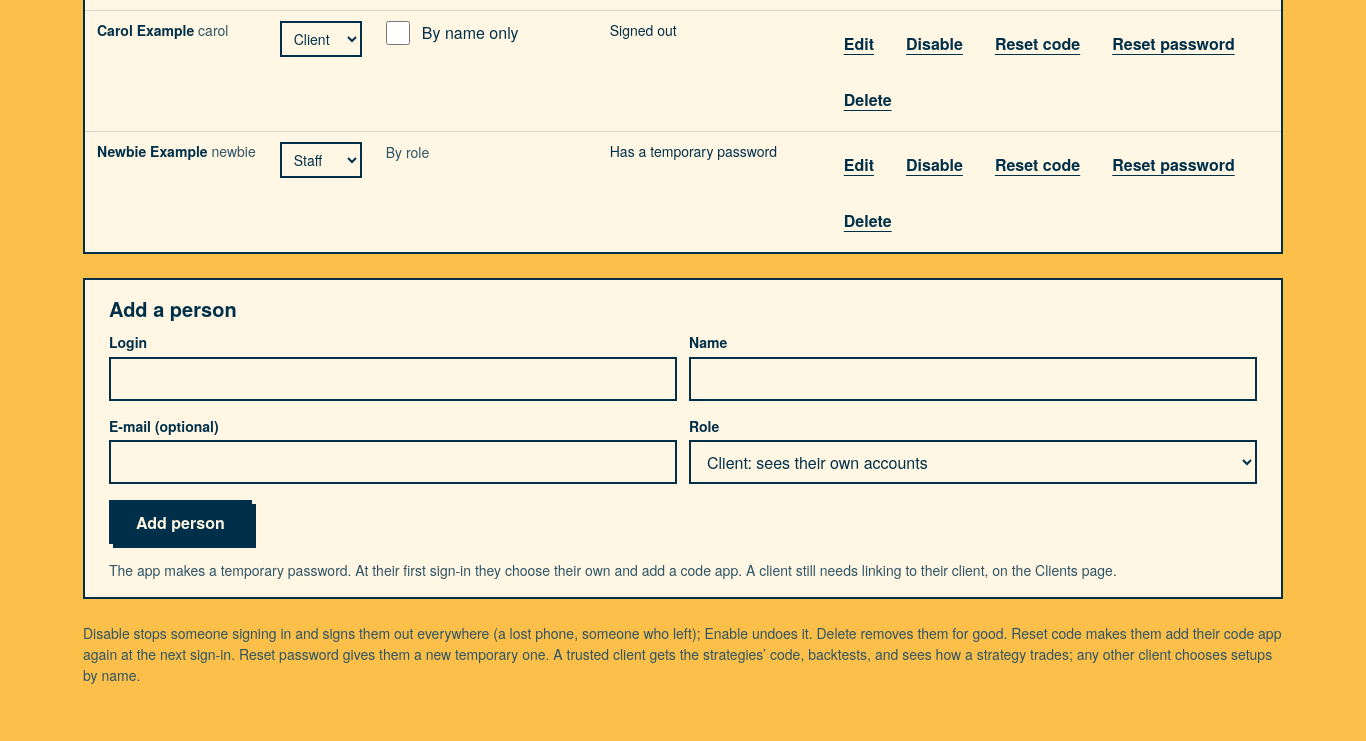
Test: People › shows the bot’s reason when a login is taken
(page scrolled)
Type "carol" into the field labelled "Login" at [393, 379], box [109,357,677,401]
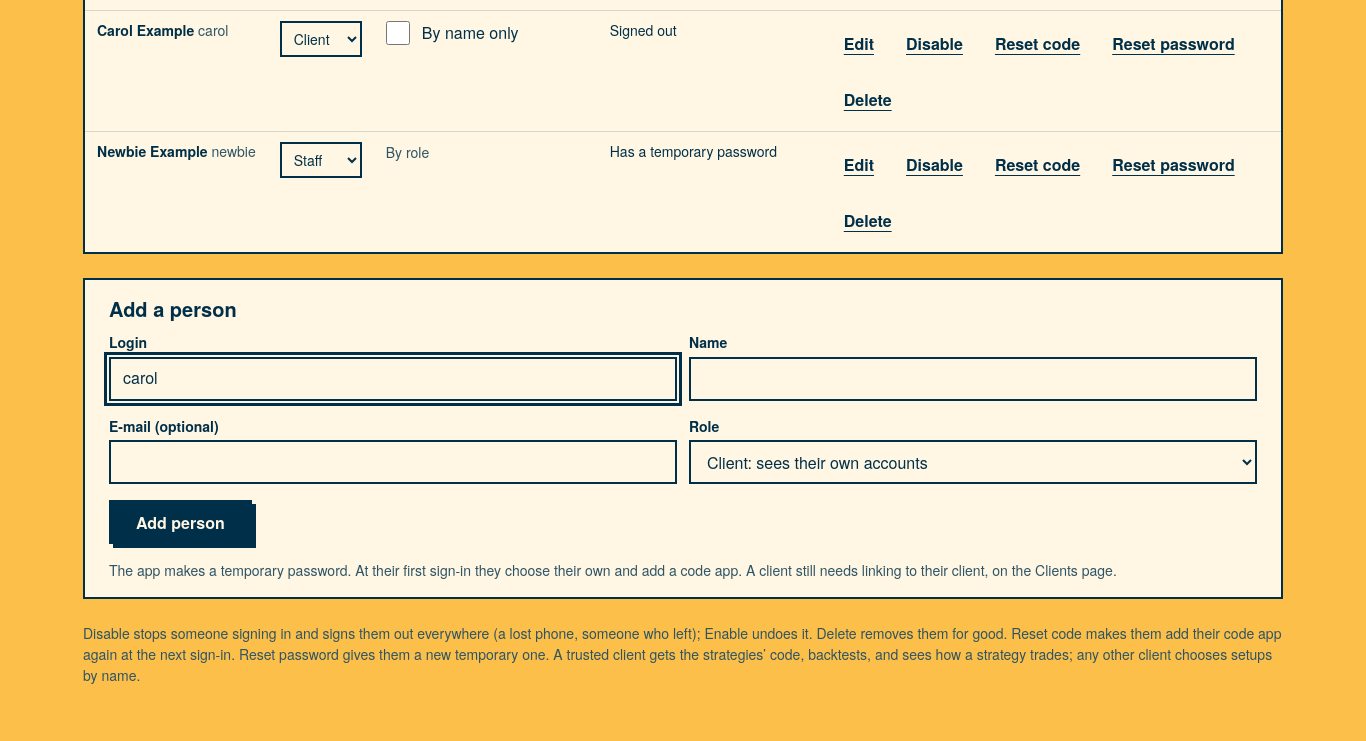
Type "Someone Else" into the field labelled "Name" at [973, 379], box [689,357,1257,401]
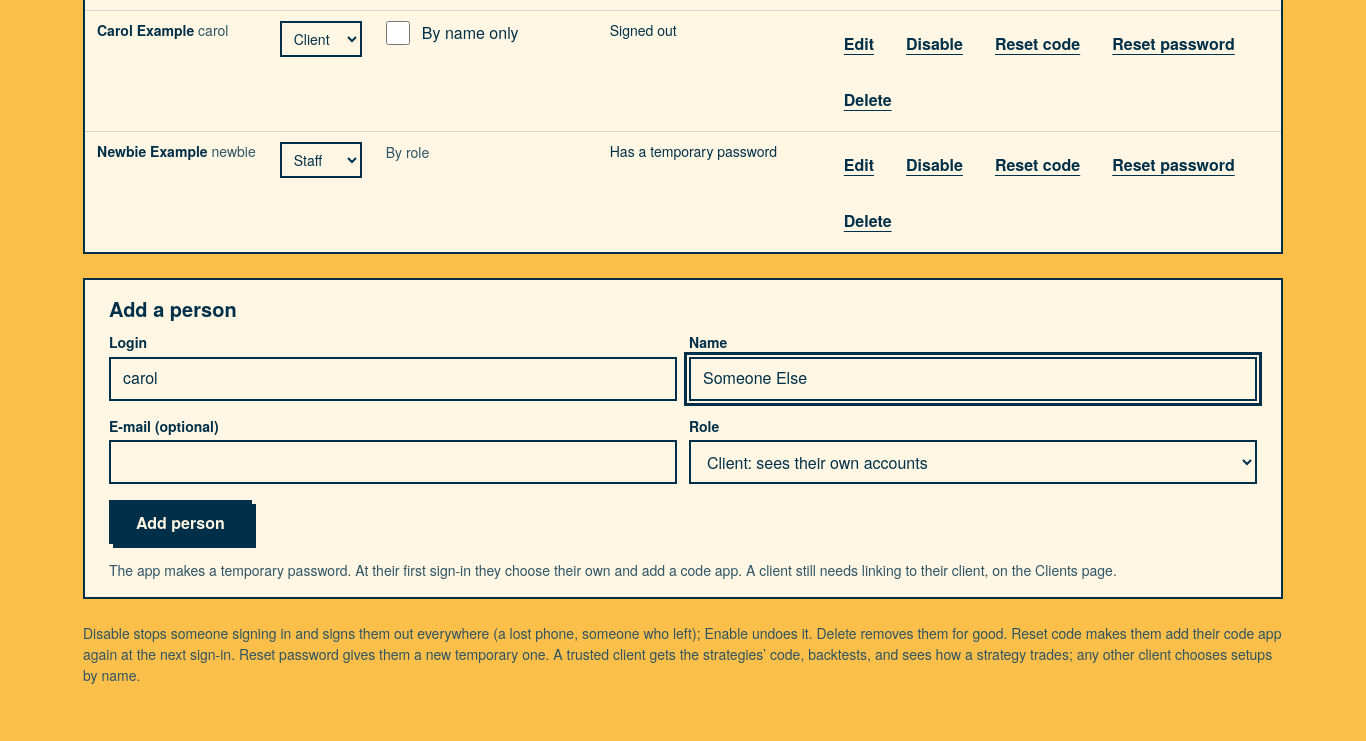
Click the button "Add person" at [180, 522], box [109,500,252,544]
(page scrolled)
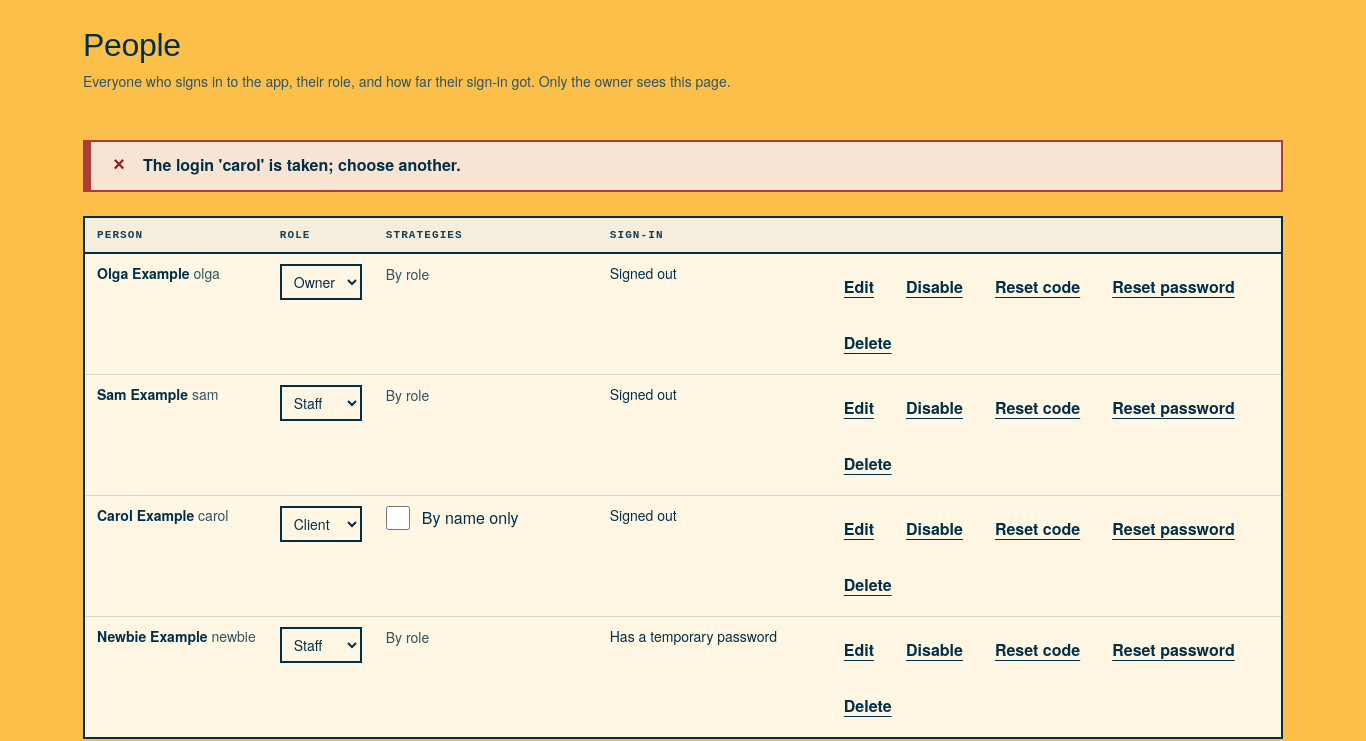
Result: the text "The login 'carol' is taken; choose another." is shown at [143,153,461,176]
